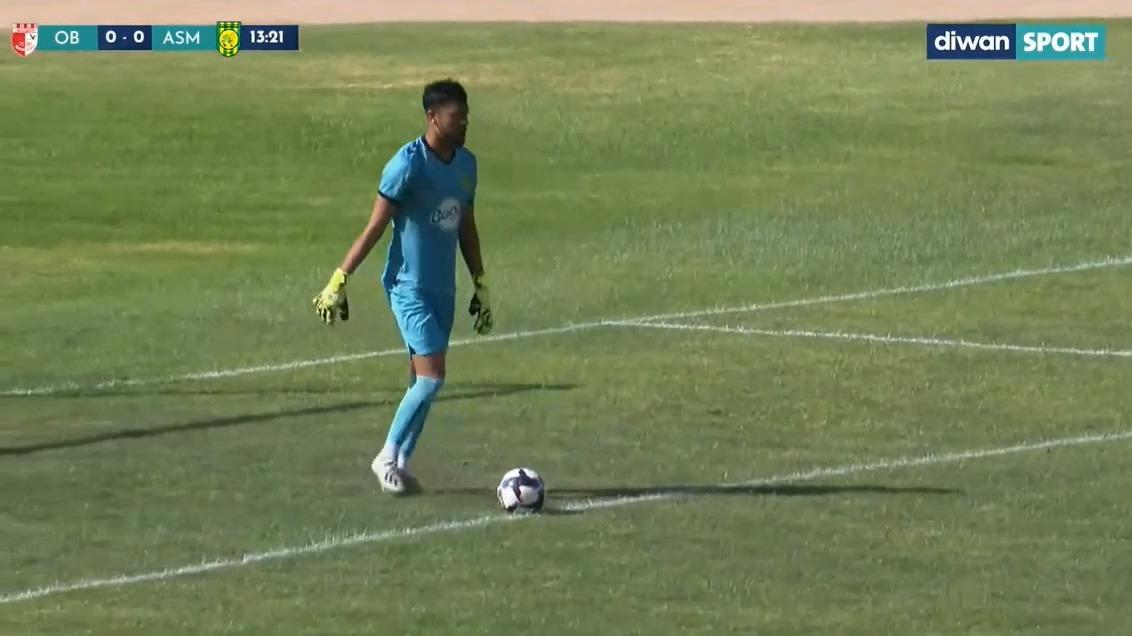ball: (500, 458, 554, 516)
goalkeeper: (291, 52, 494, 511)
